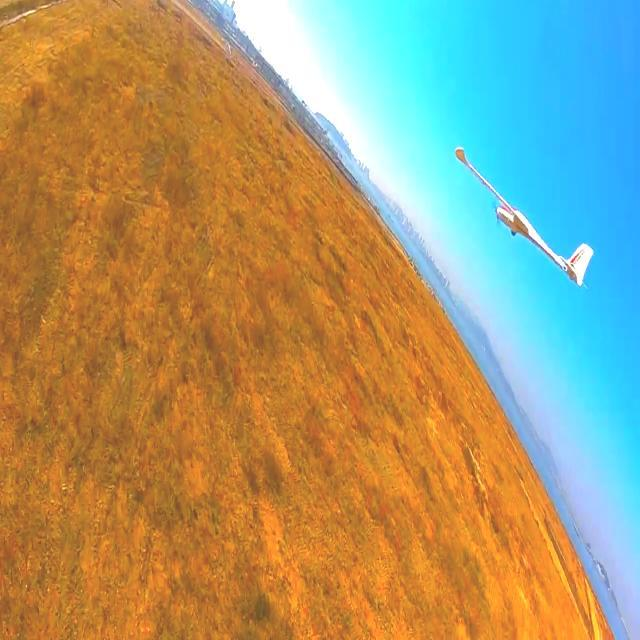iha: (428, 137, 601, 297)
